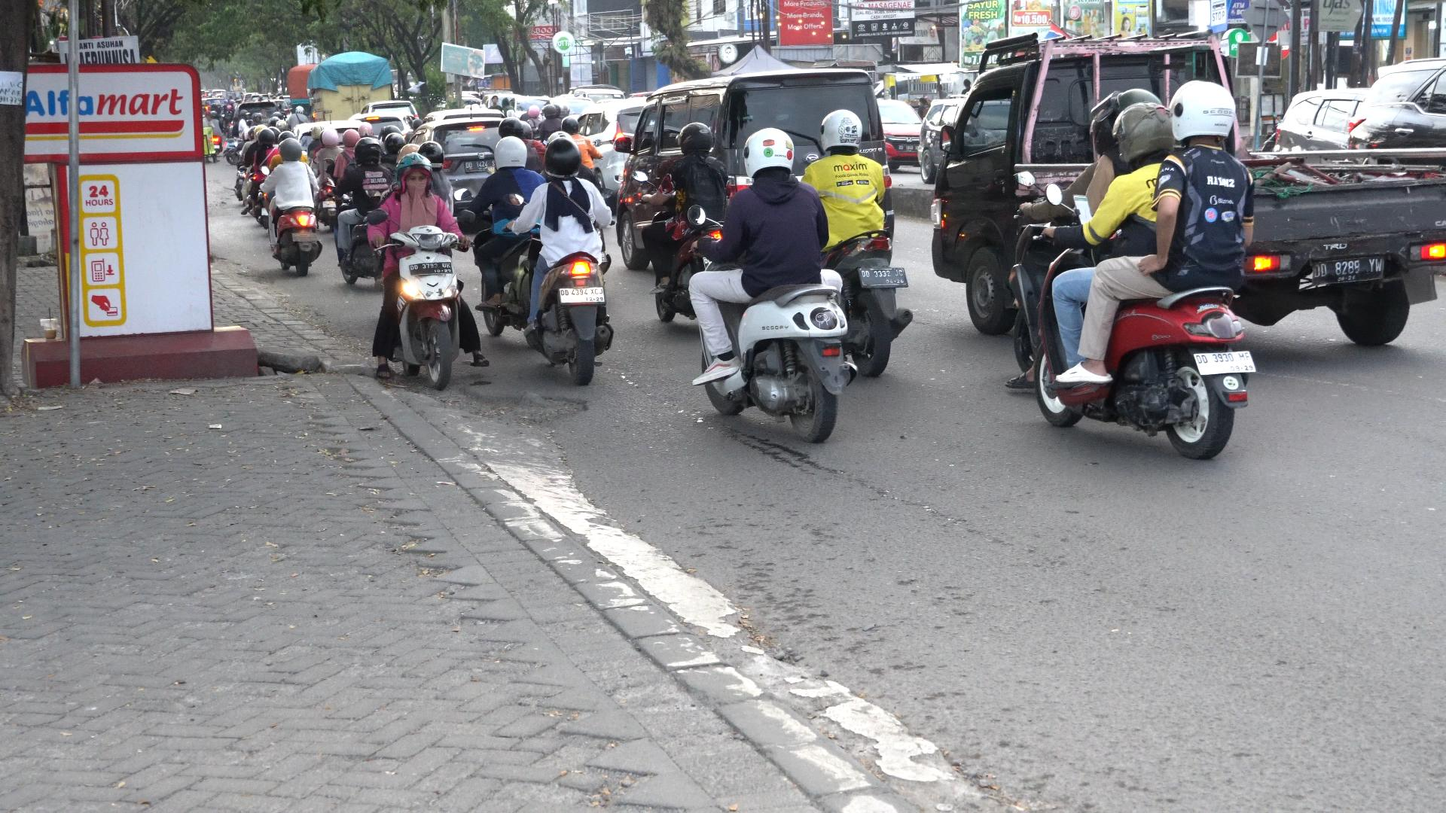number-plate: (407, 258, 452, 279)
